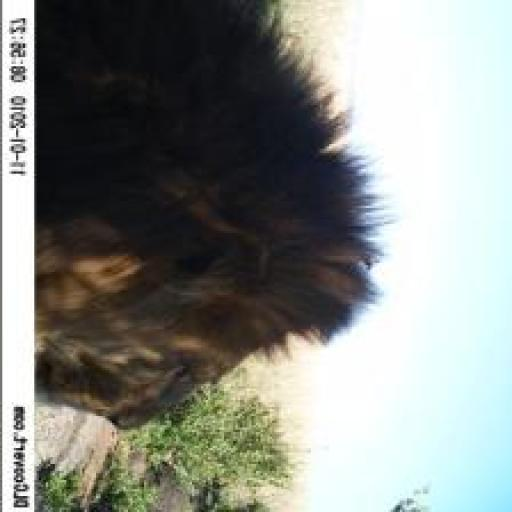lion: (39, 0, 398, 458)
